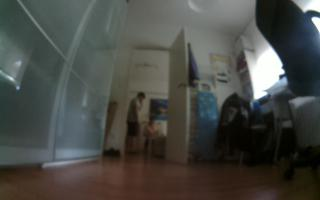person: (124, 90, 148, 159), (140, 115, 163, 159)
